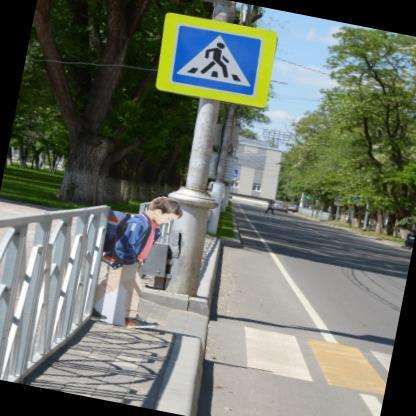road_sign: (155, 13, 276, 107)
